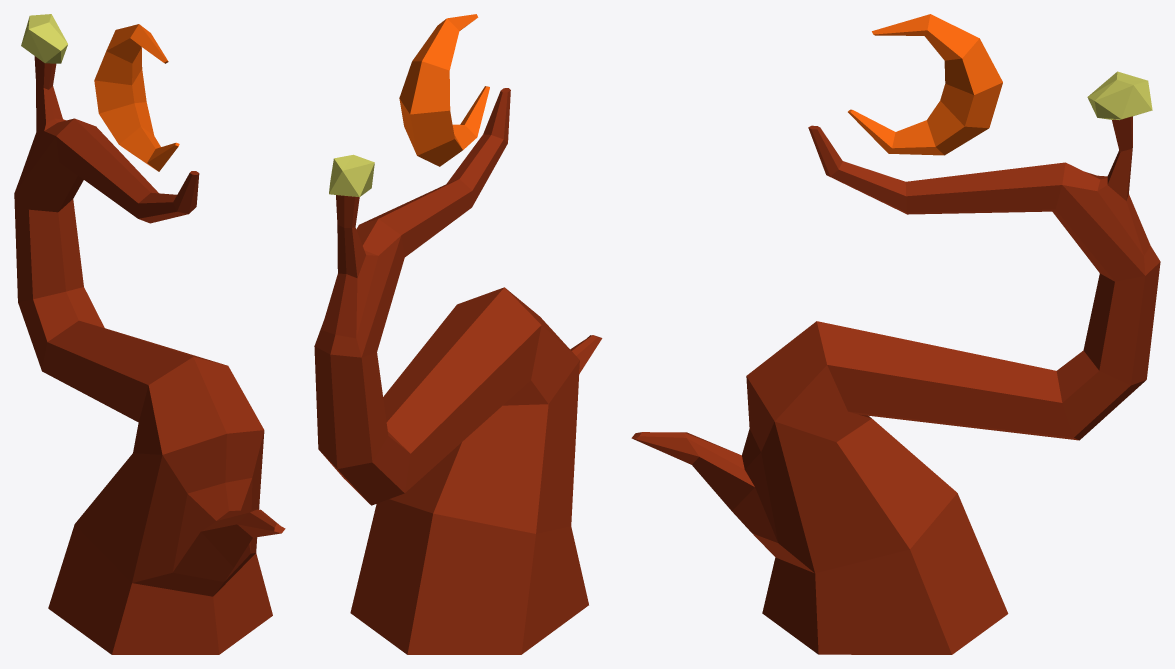
The model's file is st1_tree1.fbx.
3 views of the same model, side by side, from view 1: azimuth 30°, elevation 25°; view 2: azimuth 150°, elevation 25°; view 3: azimuth 270°, elevation 25° (orthographic). The views are drawn at different scales.
Parts seen in each view (by area): view 1: 1_leaves; view 2: 1_leaves; view 3: 1_leaves.
Boxes of the visible parts, x1=… form: 1_leaves: x1=14, y1=14, x2=285, y2=654; 1_leaves: x1=314, y1=14, x2=602, y2=654; 1_leaves: x1=631, y1=14, x2=1160, y2=654.
Size of the model in its own units: 66.33 by 225 by 180.
